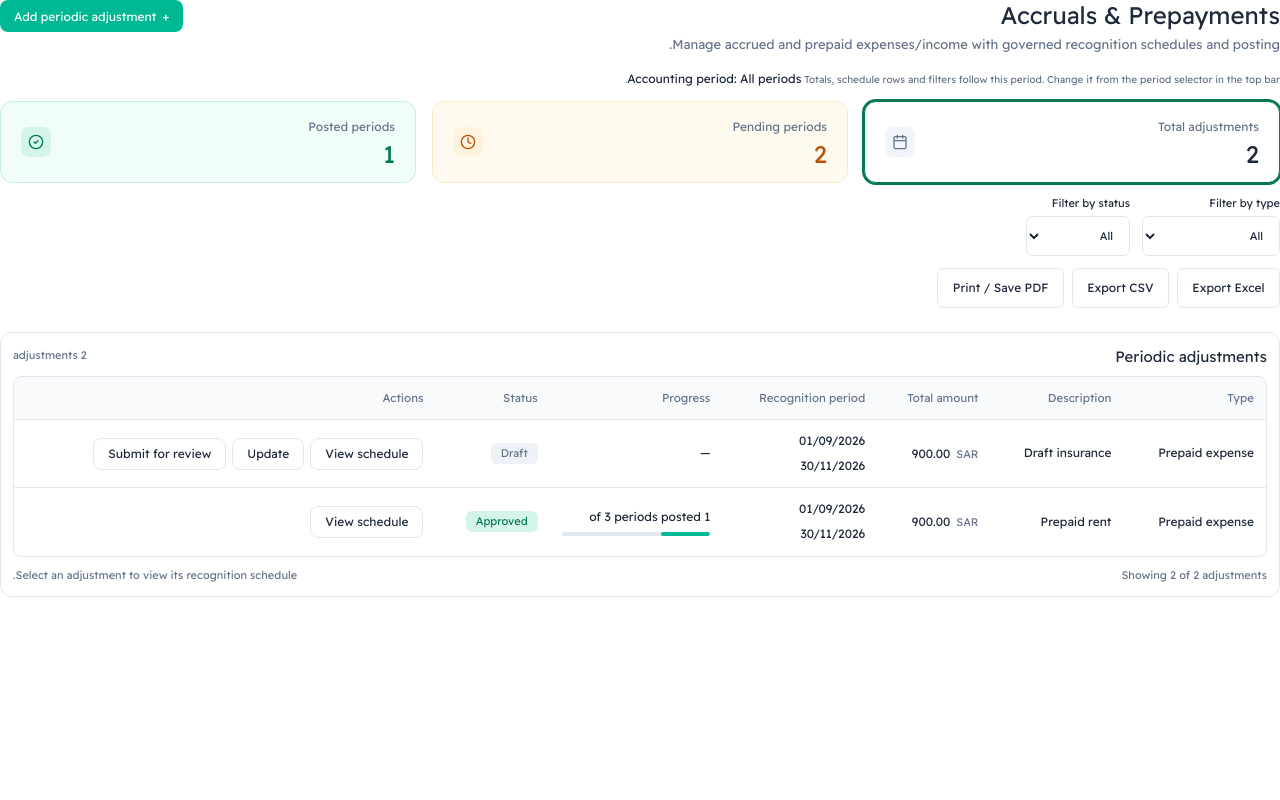
Scenario: Accruals & Prepayments workspace › hides posting without the post capability and never offers it for posted periods
Step 1. Click the button "View schedule" in the row of "Prepaid rent" → (367,522), box [310,506,424,538]
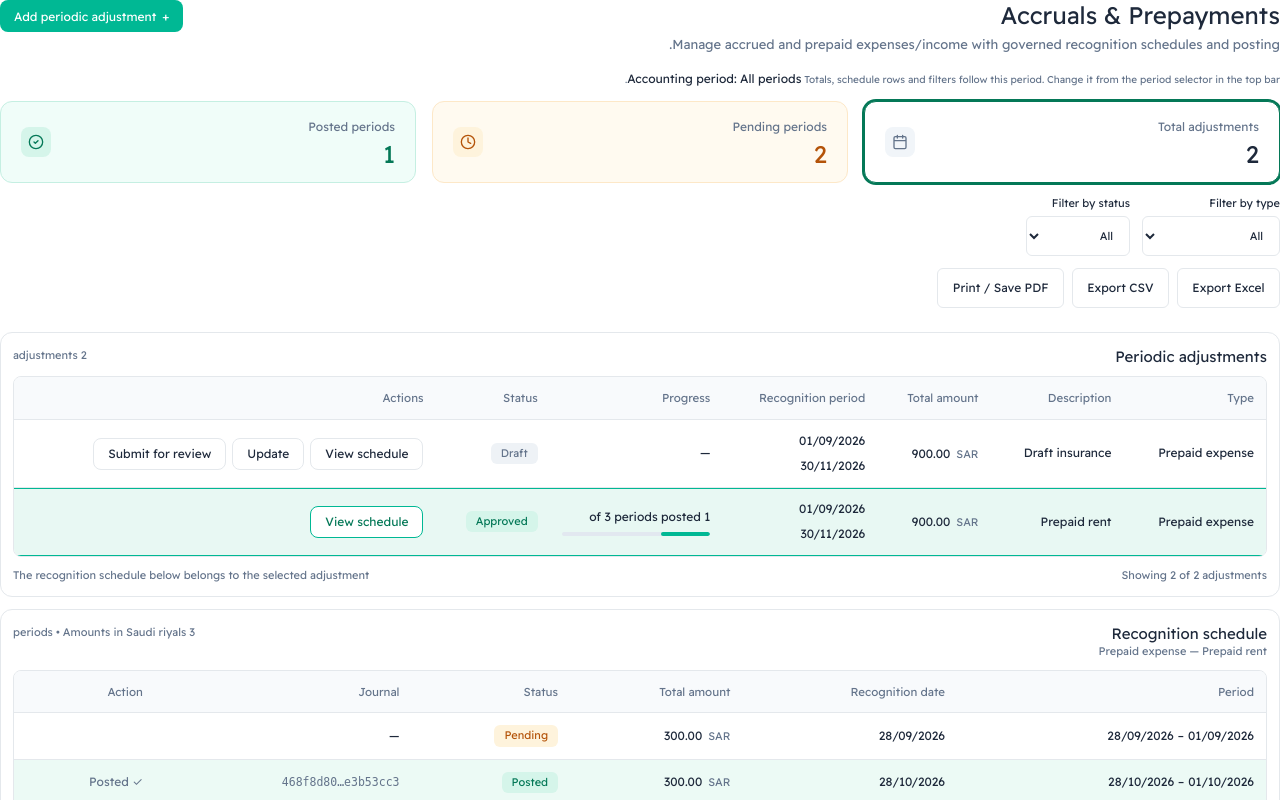
Now the heading "Recognition schedule" is shown, box [1098,624,1267,643]
Now the text "✓ Posted" is shown, box [89,774,143,789]
